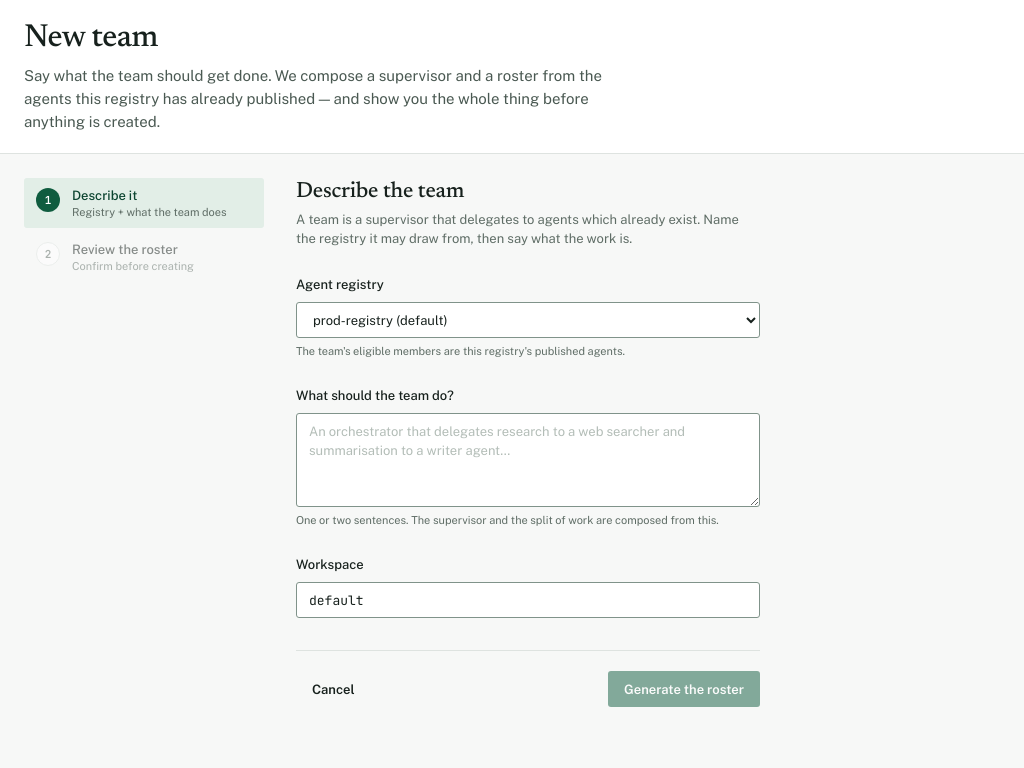
Test case: CreateTeamPage (m71.7) › an unreported eligible set reads as unknown, never as none
The width and height of the screenshot is (1024, 768).
Replace the text in the text box with test id "team-description" with "An orchestrator with a researcher" at (528, 460), box [296,413,760,507]
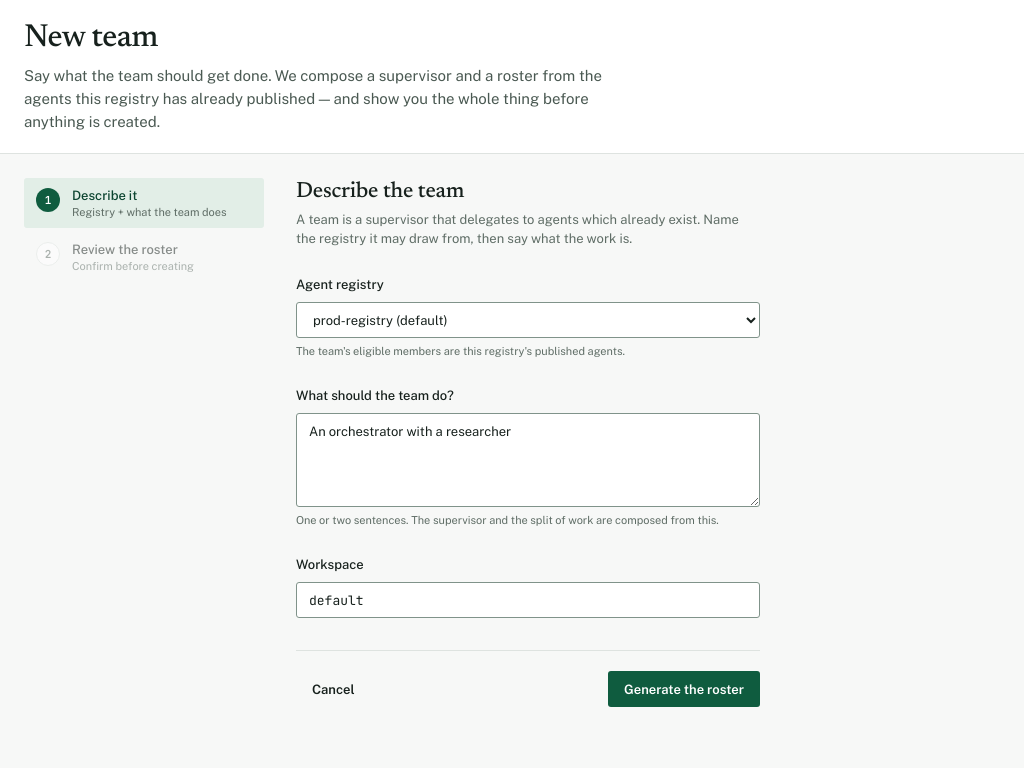
Click the button "Generate the roster".
click(684, 689)  # box [608,671,760,707]
(page scrolled)
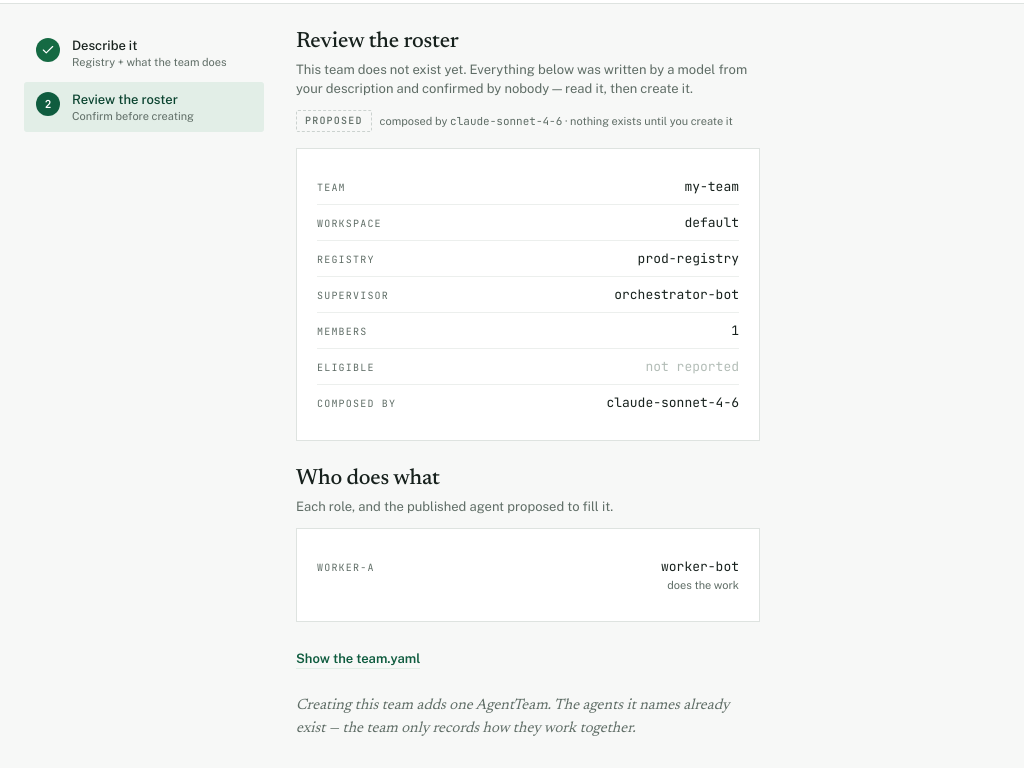
expect the element with test id "roster-review" shows "not reported": met, box [645,358,739,375]
